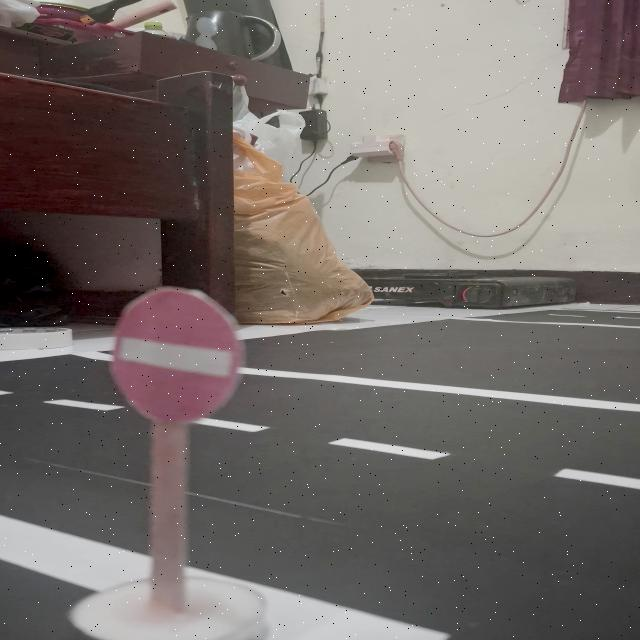Dilarang Masuk: (112, 288, 240, 423)
